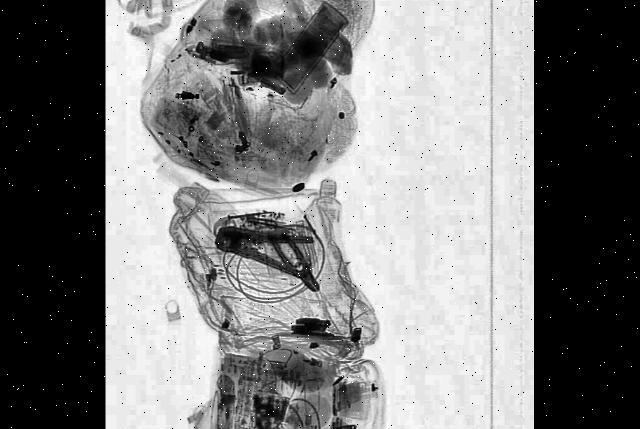Pliers: (214, 211, 314, 276), (266, 213, 324, 298)
